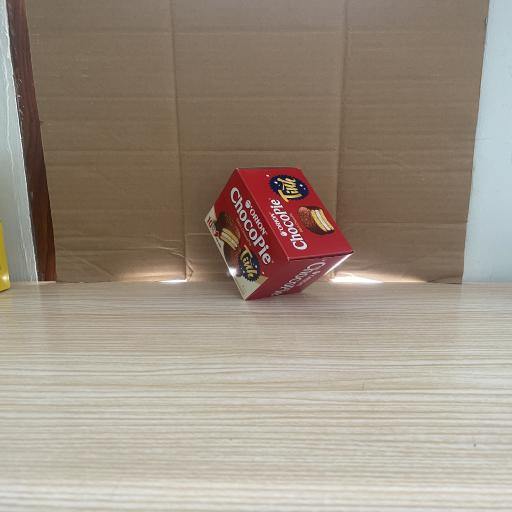chocopie: (204, 166, 355, 300)
